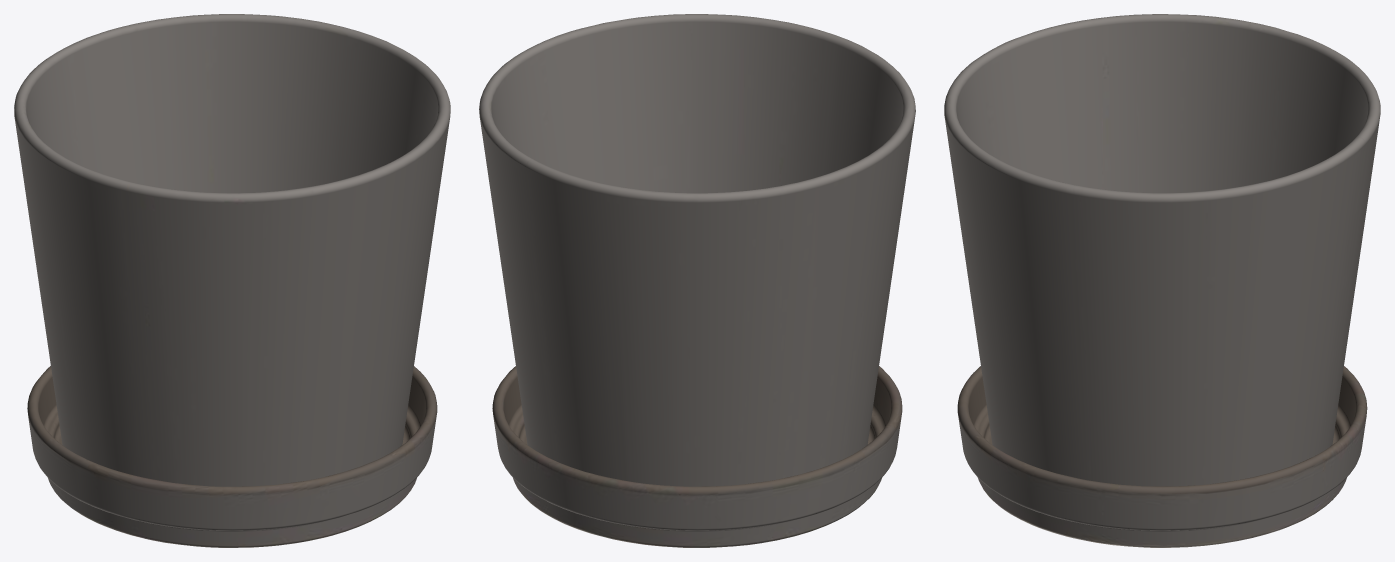
Rendered from klarbaer_plant_pot_with_saucer_indoor_ou.glb.
The picture shows the model from 3 angles, left to right: view 1: azimuth 30°, elevation 25°; view 2: azimuth 150°, elevation 25°; view 3: azimuth 270°, elevation 25°; orthographic projection.
Parts seen in each view (by area): view 1: ASY_ART_80508429_S01_NV01; view 2: ASY_ART_80508429_S01_NV01; view 3: ASY_ART_80508429_S01_NV01.
Part boxes in pixels (x1,y1,x2,y2): ASY_ART_80508429_S01_NV01: (14,14,450,547); ASY_ART_80508429_S01_NV01: (479,14,915,547); ASY_ART_80508429_S01_NV01: (944,14,1380,547).
Bounding box in the file's own units: 0.1741 × 0.1615 × 0.1742.
Materials: 1 (1 with a texture image).
